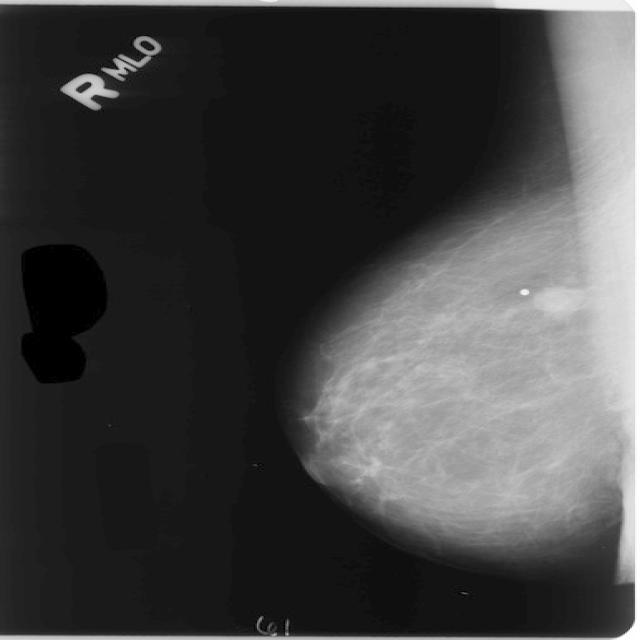tumour: (527, 285, 584, 317)
